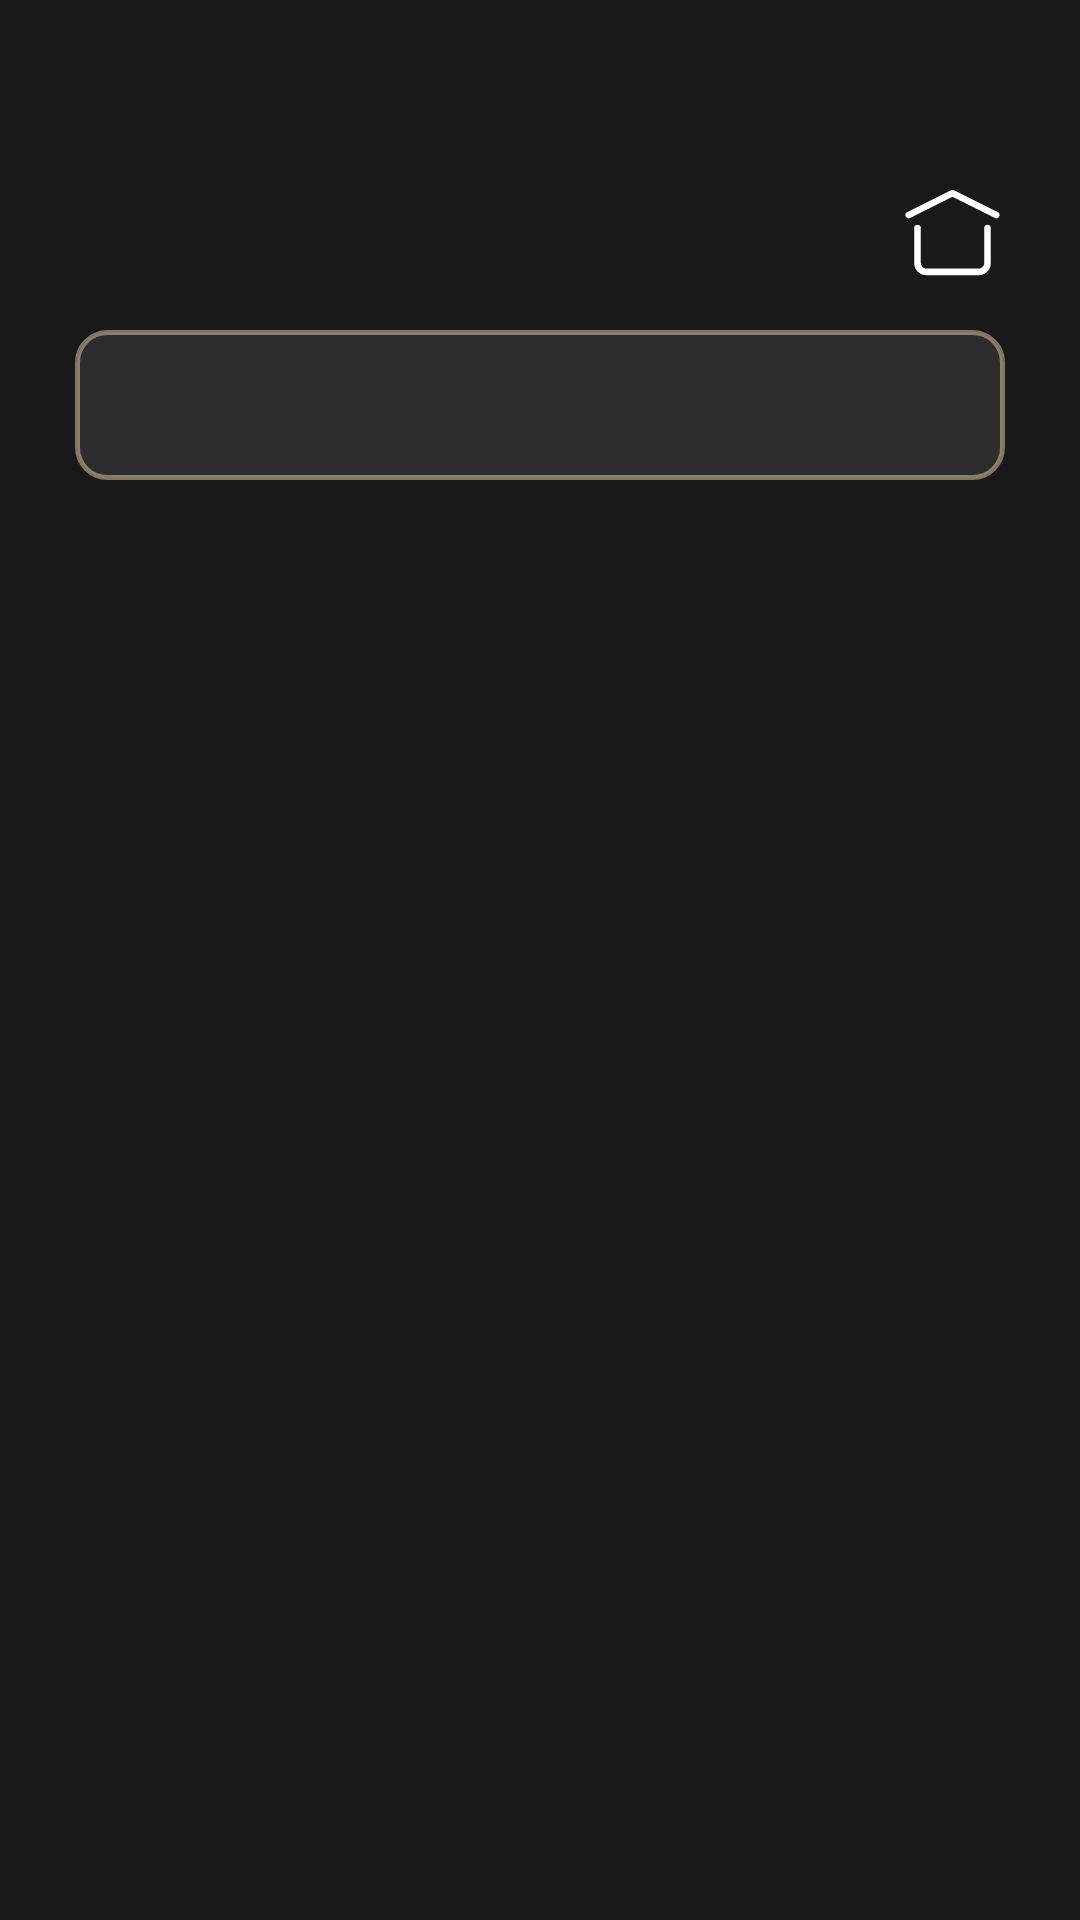

Screen size 1080*1920. Icon name, then its center in pixels as (x,y):
home: (952,233)
